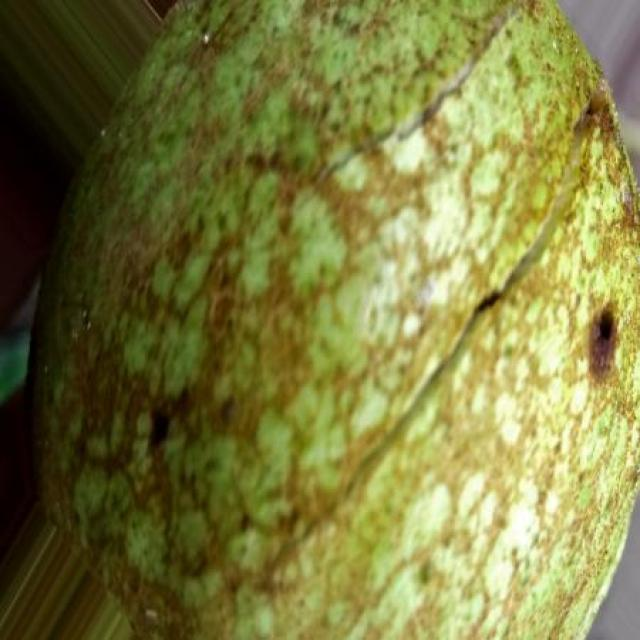Scab: (36, 0, 640, 640)
